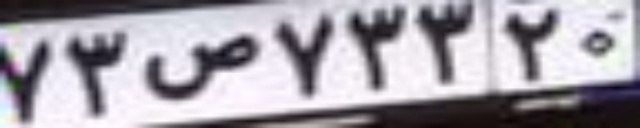0: (577, 30, 614, 57)
2: (503, 5, 565, 80)
3: (345, 3, 412, 93), (64, 29, 123, 115), (415, 3, 474, 84)
7: (274, 13, 340, 97), (0, 38, 52, 125)
saat: (145, 37, 261, 98)
